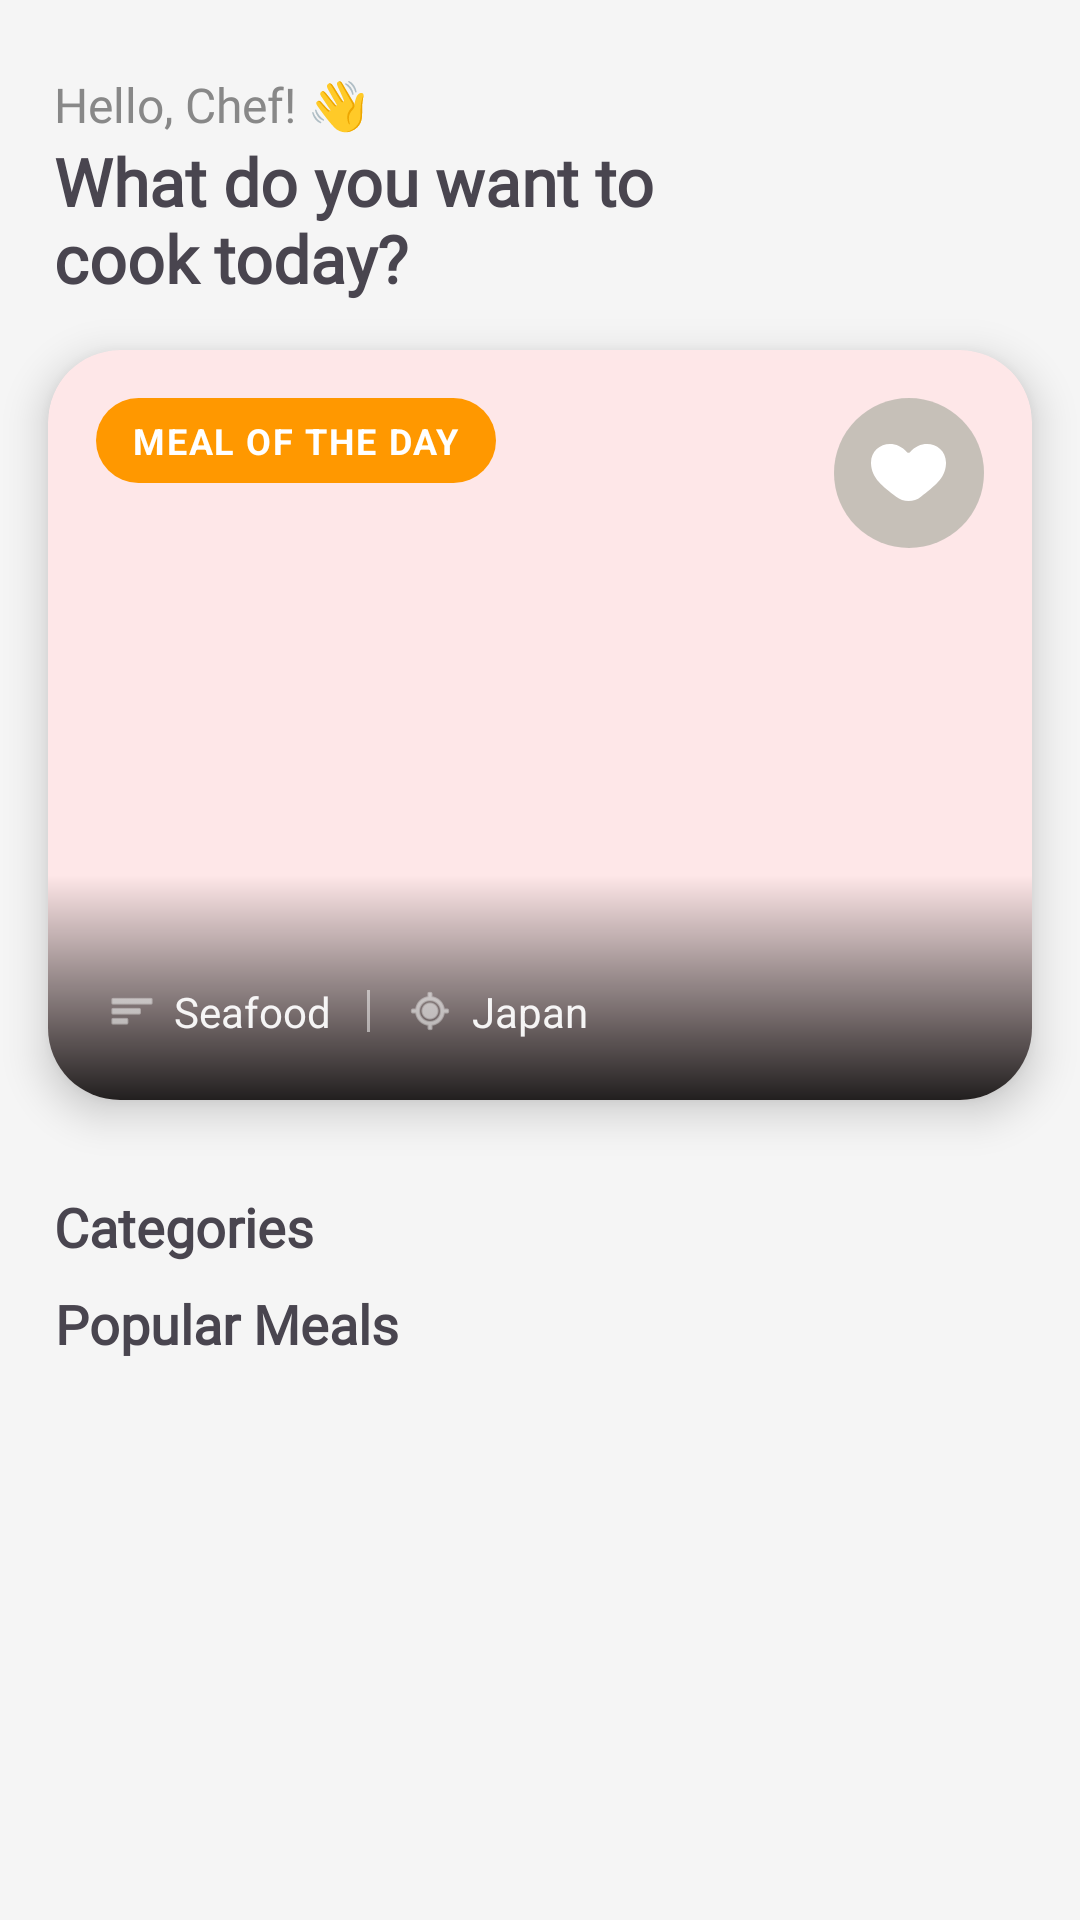

Named icons in this screenshot (1080 x 1920) and their centers, [x,y]:
love: [908,472]
mylocation: [430,1011]
sort by size: [132,1011]
